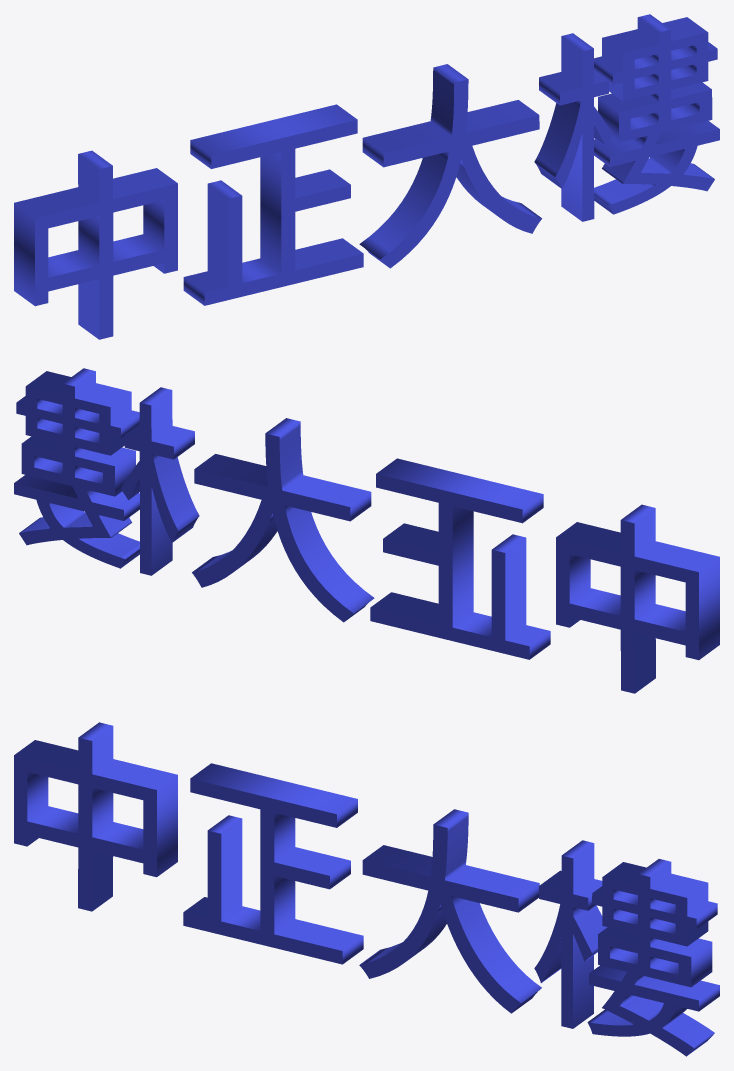
The model's file is zhongzhengword.glb.
The picture shows the model from 3 angles, top to bottom: view 1: azimuth 30°, elevation 25°; view 2: azimuth 150°, elevation 25°; view 3: azimuth 330°, elevation 25°; orthographic projection.
Parts seen in each view (by area): view 1: 文字.001; view 2: 文字.001; view 3: 文字.001.
Part boxes in pixels (box(x1,y1,x2,y2)): 文字.001: box(14, 14, 719, 339); 文字.001: box(14, 368, 719, 693); 文字.001: box(14, 722, 719, 1056).
Size of the model in its own units: 3.01 by 0.7194 by 0.161.
